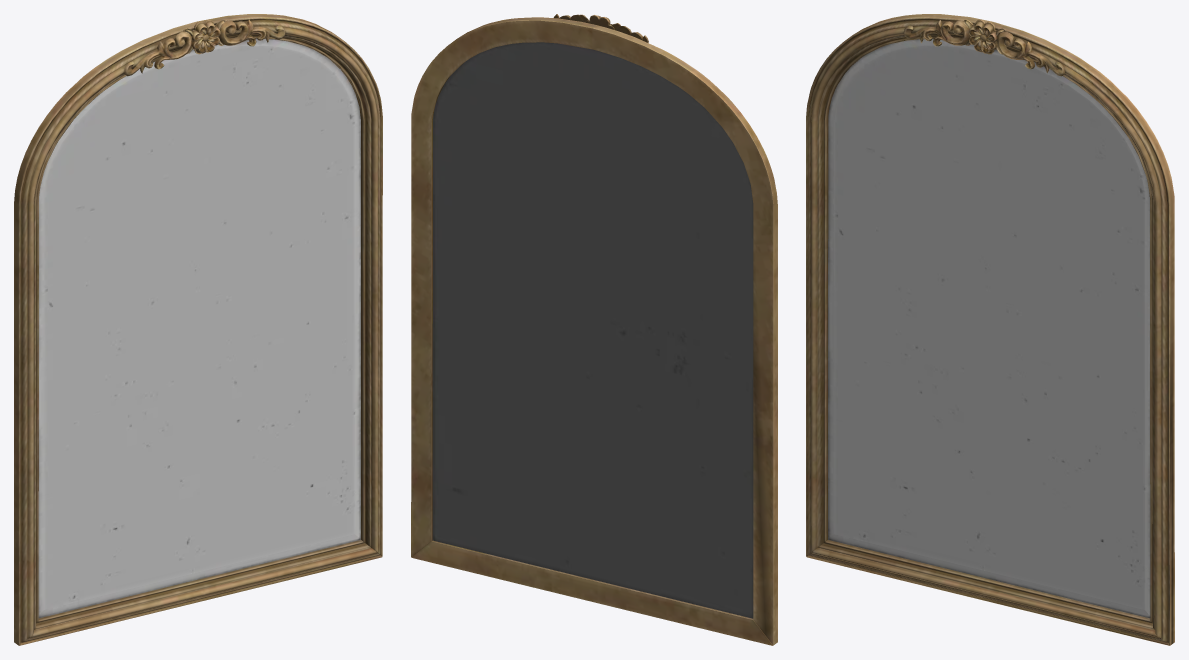
The model's file is mirror.glb.
3 views of the same model, side by side, from view 1: azimuth 30°, elevation 25°; view 2: azimuth 150°, elevation 25°; view 3: azimuth 330°, elevation 25° (orthographic).
Parts seen in each view (by area): view 1: ornate_mirror_01; view 2: ornate_mirror_01; view 3: ornate_mirror_01.
Boxes of the visible parts, x1,y1,x2,y2 form: ornate_mirror_01: [14, 14, 382, 645]; ornate_mirror_01: [411, 14, 777, 645]; ornate_mirror_01: [806, 14, 1174, 645].
Bounding box in the file's own units: 0.4865 × 0.7442 × 0.026.
Materials: 1 (1 with a texture image).
